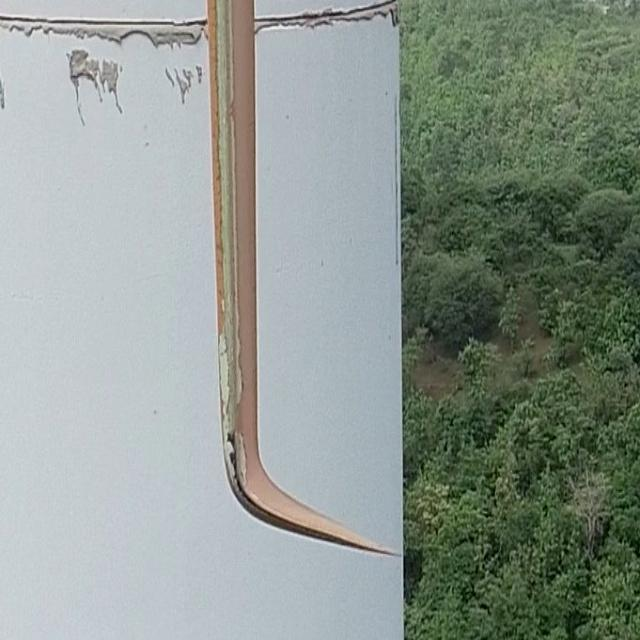EROSION: (212, 321, 257, 491)
